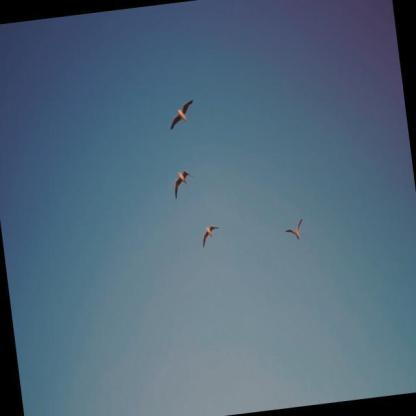bird: (166, 96, 199, 132), (170, 165, 197, 200), (283, 215, 307, 245), (199, 223, 223, 251)
